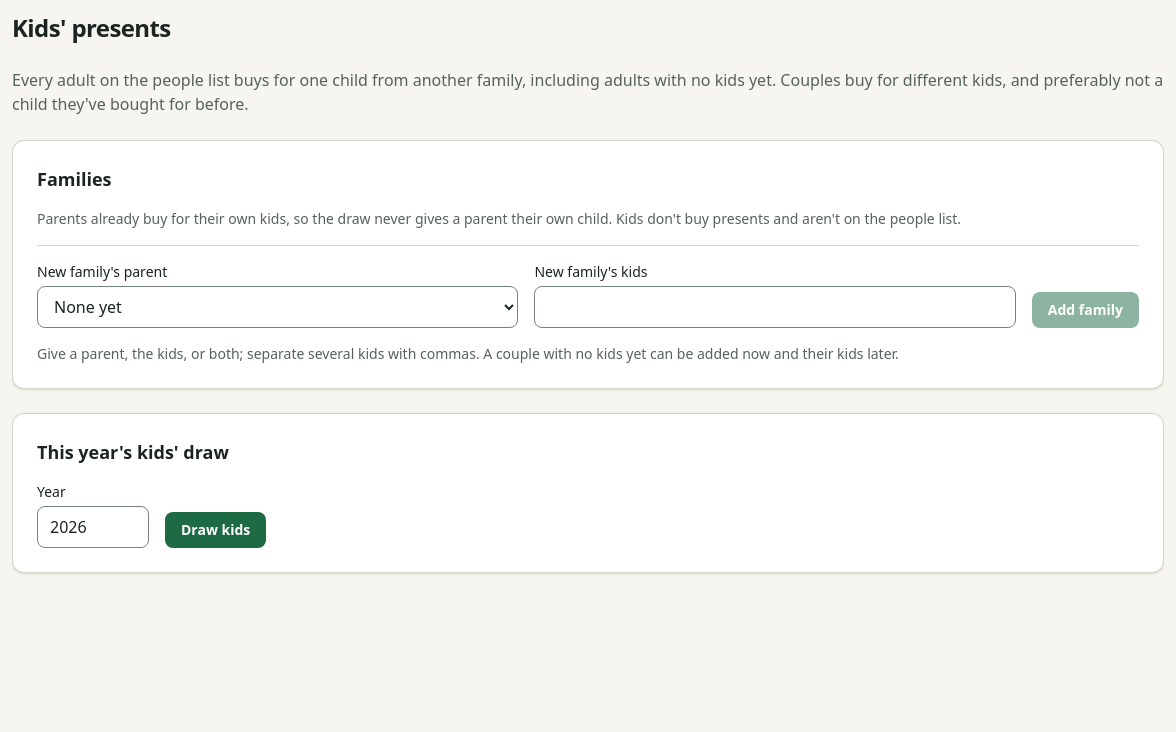
Scenario: KidsPanel › asks for families before drawing
What coordinates should you click on to do the following:
click the button "Draw kids"
I would click on:
 (216, 530)
Its box is left=165, top=512, right=266, bottom=548.
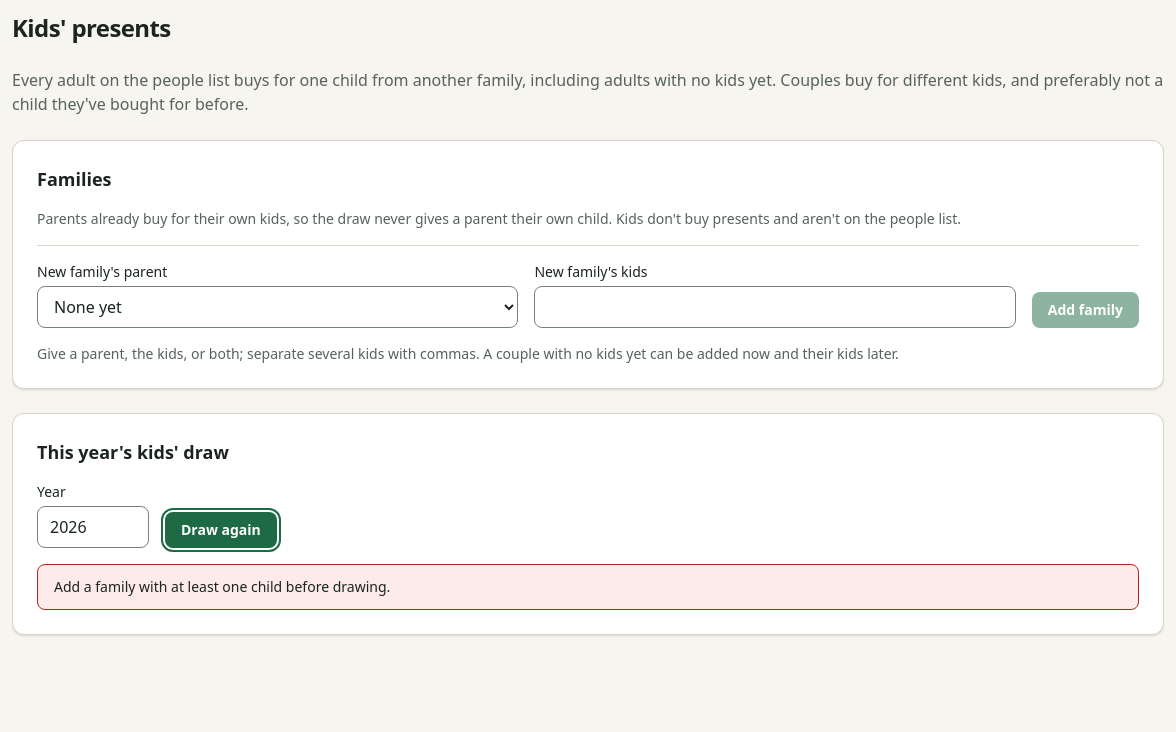
Result: the message shows "Add a family" at left=54, top=577, right=390, bottom=596
